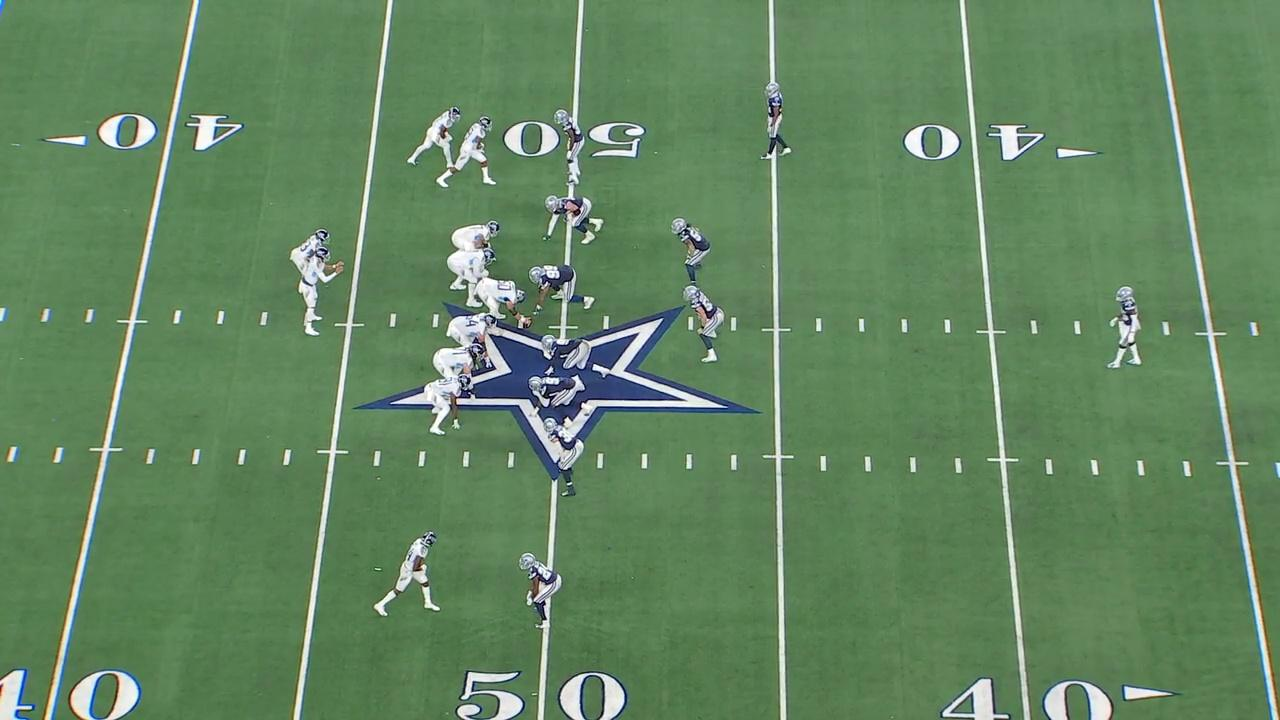player: (367, 527, 446, 624), (438, 113, 498, 191), (675, 285, 732, 366), (540, 413, 589, 507), (299, 245, 347, 339), (515, 549, 565, 637), (527, 259, 599, 315), (419, 371, 475, 440), (407, 103, 463, 171), (540, 194, 607, 247), (1107, 283, 1145, 374), (537, 332, 609, 380), (553, 107, 593, 193), (525, 374, 595, 423), (762, 77, 797, 167), (477, 275, 531, 329), (670, 214, 711, 285), (449, 246, 498, 296), (431, 340, 489, 377), (287, 225, 336, 265), (443, 311, 499, 345), (449, 219, 502, 248)
